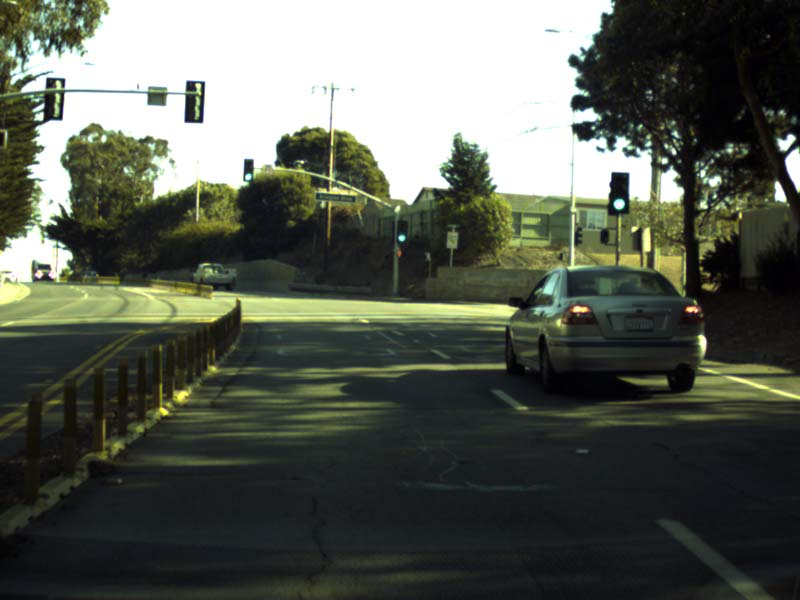Green: (610, 171, 629, 214), (243, 158, 253, 181), (397, 219, 406, 242)
